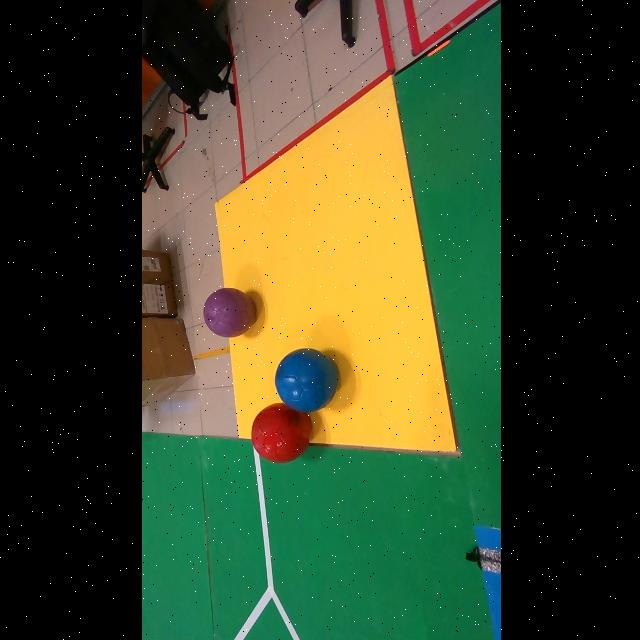B: (273, 349, 337, 412)
P: (202, 288, 254, 337)
R: (250, 403, 309, 464)
